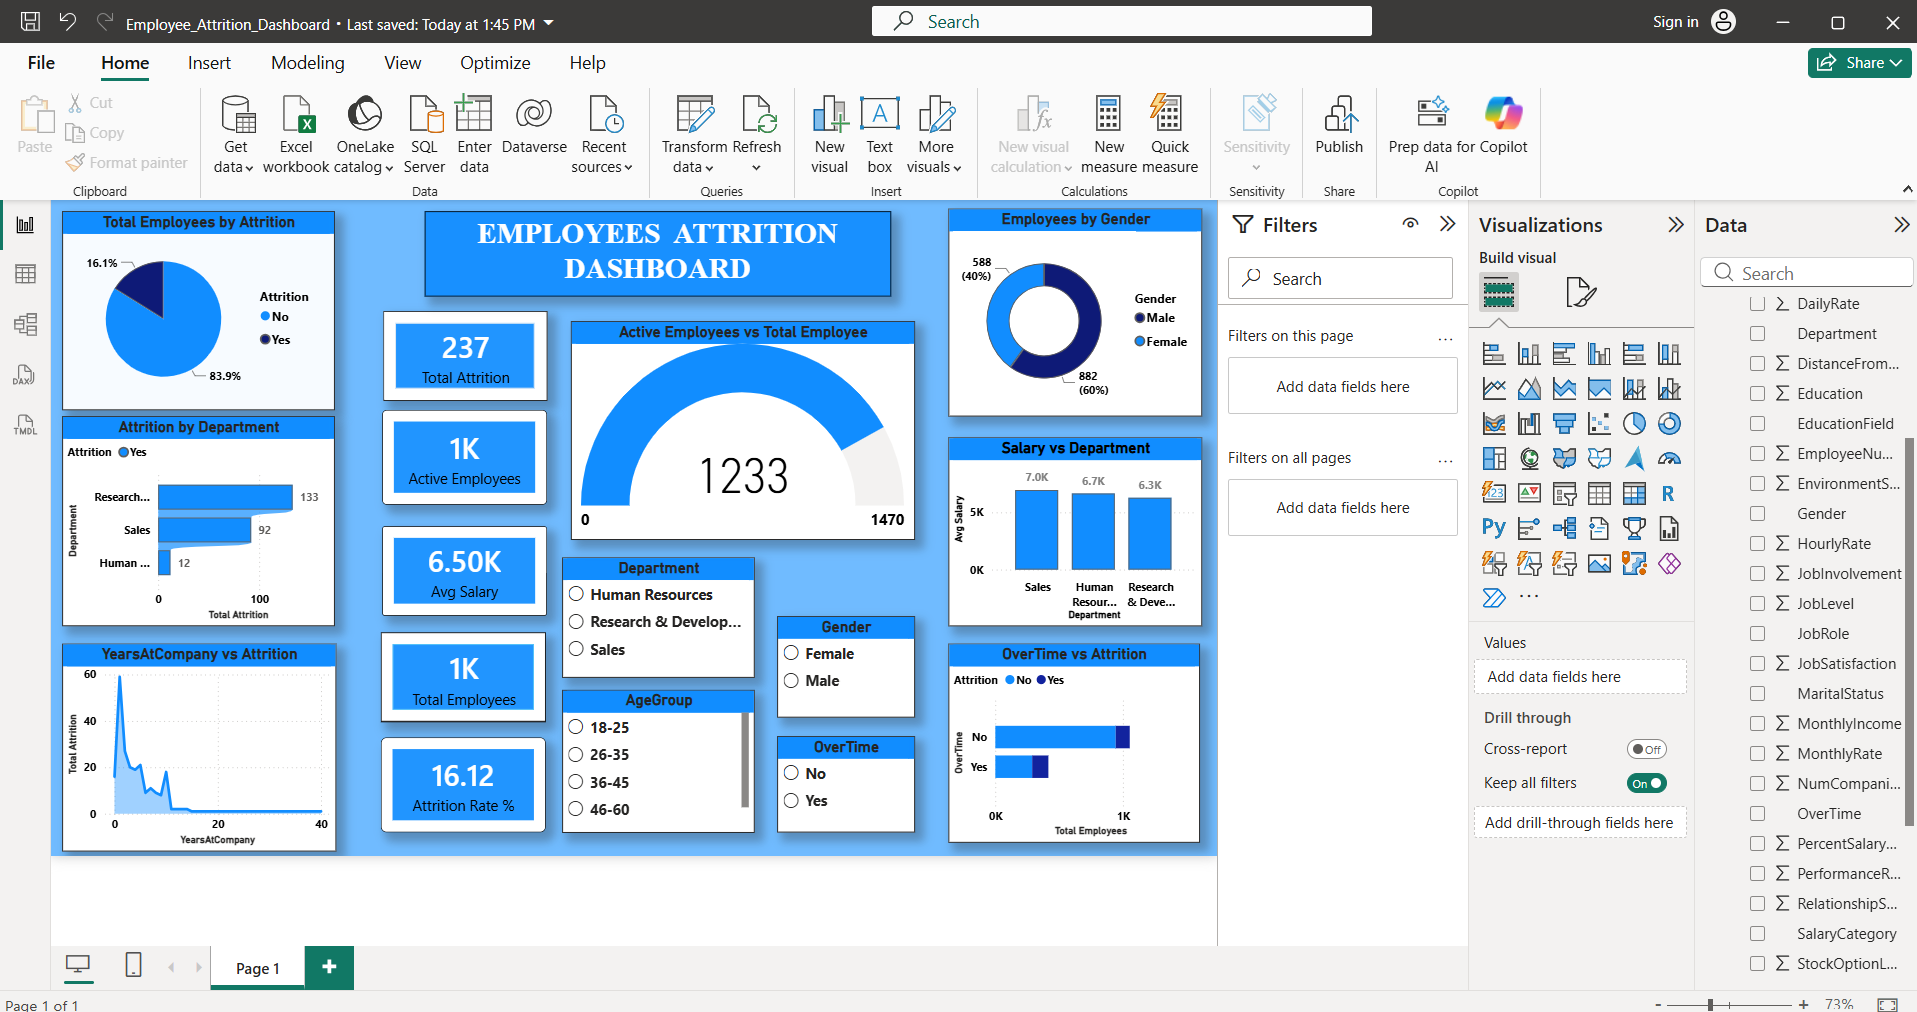

The dashboard page shown, as its layout file describes it:
{"tool":"powerbi","page":{"name":"Page 1","canvas":[1280,720],"ordinal":0},"visuals":[{"type":"cardVisual","fields":{"Data":["employee_attrition_analysis (1).Total Employees"]},"box":[362.3,474.8,181.1,98.8],"z":0},{"type":"cardVisual","fields":{"Data":["employee_attrition_analysis (1).Total Attrition"]},"box":[365,122.1,179.8,98.8],"z":1000},{"type":"cardVisual","fields":{"Data":["employee_attrition_analysis (1).Attrition Rate %"]},"box":[362.3,590.1,181.1,104.3],"z":2000},{"type":"cardVisual","fields":{"Data":["employee_attrition_analysis (1).Avg Salary"]},"box":[363.6,358.1,181.1,98.8],"z":3000},{"type":"cardVisual","fields":{"Data":["employee_attrition_analysis (1).Active Employees"]},"box":[363.6,230.5,181.1,104.3],"z":4000},{"type":"pieChart","title":"Total Employees by Attrition","fields":{"Category":["employee_attrition_analysis (1).Attrition"],"Y":["employee_attrition_analysis (1).Total Employees"]},"box":[12.3,12.3,299.1,218.2],"z":5000},{"type":"barChart","title":" Attrition by Department ","fields":{"Category":["employee_attrition_analysis (1).Department"],"Y":["employee_attrition_analysis (1).Total Attrition"],"Series":["employee_attrition_analysis (1).Attrition"]},"box":[12.3,237.4,299.1,230.5],"z":6000},{"type":"donutChart","title":" Employees by Gender","fields":{"Category":["employee_attrition_analysis (1).Gender"],"Y":["employee_attrition_analysis (1).Total Employees"]},"box":[985.3,9.6,278.6,227.8],"z":7000},{"type":"barChart","title":" OverTime vs Attrition","fields":{"Category":["employee_attrition_analysis (1).OverTime"],"Y":["employee_attrition_analysis (1).Total Employees"],"Series":["employee_attrition_analysis (1).Attrition"]},"box":[985.3,487.1,275.8,218.2],"z":8000},{"type":"lineChart","title":" YearsAtCompany vs  Attrition","fields":{"Category":["employee_attrition_analysis (1).YearsAtCompany"],"Y":["employee_attrition_analysis (1).Total Attrition"]},"box":[12.3,487.1,300.5,227.8],"z":9000},{"type":"clusteredColumnChart","title":"Salary vs Department","fields":{"Category":["employee_attrition_analysis (1).Department"],"Y":["employee_attrition_analysis (1).Avg Salary"]},"box":[985.3,260.7,278.6,207.2],"z":10000},{"type":"listSlicer","fields":{"Values":["employee_attrition_analysis (1).Department"]},"box":[561.2,392.5,211.3,131.7],"z":11000},{"type":"listSlicer","fields":{"Values":["employee_attrition_analysis (1).Gender"]},"box":[797.3,456.9,150.9,111.1],"z":12000},{"type":"listSlicer","fields":{"Values":["employee_attrition_analysis (1).AgeGroup"]},"box":[561.2,537.9,211.3,156.4],"z":13000},{"type":"listSlicer","fields":{"Values":["employee_attrition_analysis (1).OverTime"]},"box":[797.3,588.7,150.9,105.7],"z":14000},{"type":"textbox","box":[410.3,12.3,511.8,93.3],"z":15000},{"type":"gauge","title":"Active Employees vs Total Employee","fields":{"Y":["employee_attrition_analysis (1).Active Employees"],"MaxValue":["employee_attrition_analysis (1).Total Employees"]},"box":[570.8,133.1,377.4,240.1],"z":15001}]}

Visuals, with their boxes on the page's 1280x720 design canvas (x1, y1, x2, y2). These are canvas units, not pixel positions in the 1917x1012 screenshot, which may show the page scaled, cropped or inside an application window:
cardVisual - employee_attrition_analysis (1).Total Employees: l=362, t=475, r=543, b=574
cardVisual - employee_attrition_analysis (1).Total Attrition: l=365, t=122, r=545, b=221
cardVisual - employee_attrition_analysis (1).Attrition Rate %: l=362, t=590, r=543, b=694
cardVisual - employee_attrition_analysis (1).Avg Salary: l=364, t=358, r=545, b=457
cardVisual - employee_attrition_analysis (1).Active Employees: l=364, t=230, r=545, b=335
"Total Employees by Attrition" pieChart: l=12, t=12, r=311, b=230
" Attrition by Department " barChart: l=12, t=237, r=311, b=468
" Employees by Gender" donutChart: l=985, t=10, r=1264, b=237
" OverTime vs Attrition" barChart: l=985, t=487, r=1261, b=705
" YearsAtCompany vs  Attrition" lineChart: l=12, t=487, r=313, b=715
"Salary vs Department" clusteredColumnChart: l=985, t=261, r=1264, b=468
listSlicer - employee_attrition_analysis (1).Department: l=561, t=392, r=772, b=524
listSlicer - employee_attrition_analysis (1).Gender: l=797, t=457, r=948, b=568
listSlicer - employee_attrition_analysis (1).AgeGroup: l=561, t=538, r=772, b=694
listSlicer - employee_attrition_analysis (1).OverTime: l=797, t=589, r=948, b=694
textbox: l=410, t=12, r=922, b=106
"Active Employees vs Total Employee" gauge: l=571, t=133, r=948, b=373
